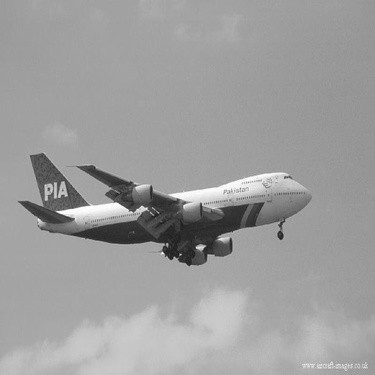airplane: (6, 125, 320, 275)
